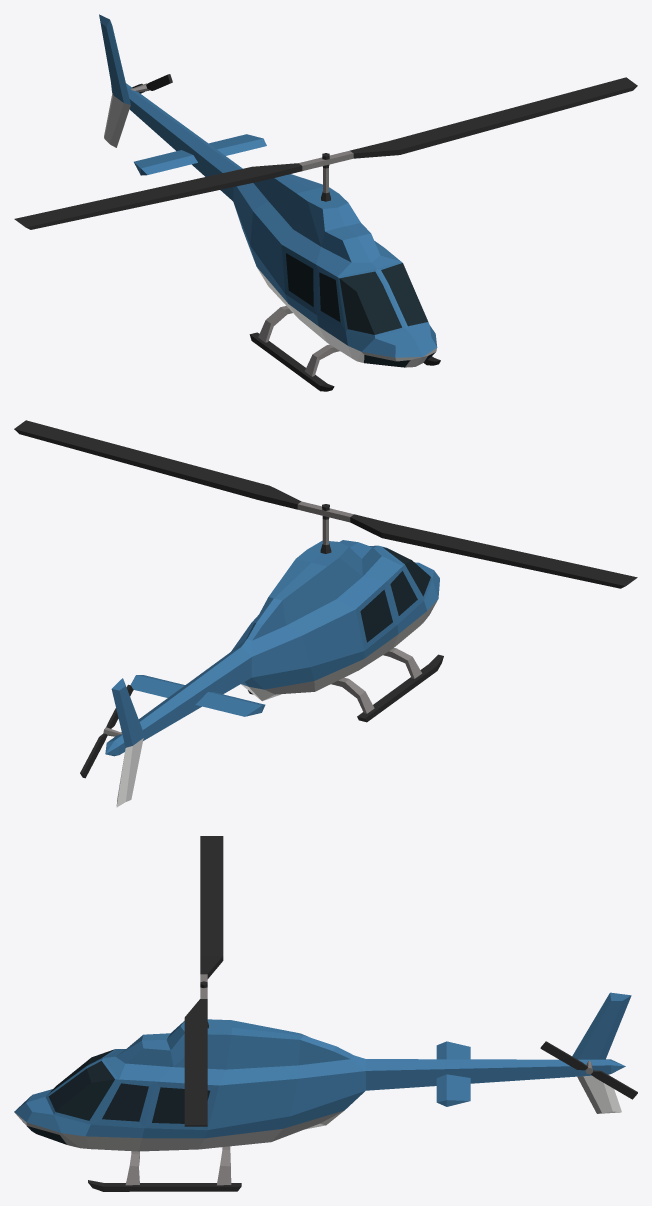
Rendered from helicopter.glb.
3 renders of one model, top to bottom at view 1: azimuth 30°, elevation 25°; view 2: azimuth 150°, elevation 25°; view 3: azimuth 270°, elevation 25°, orthographic. The views are drawn at different scales.
Visible parts, largest first — view 1: helicopter-base, helicopter-propeller-main; view 2: helicopter-base, helicopter-propeller-main, helicopter-propeller-small; view 3: helicopter-base, helicopter-propeller-main, helicopter-propeller-small.
Boxes of the visible parts, x1,y1,x2,y2 form: helicopter-base: [99, 14, 440, 391]; helicopter-propeller-main: [14, 77, 637, 229]; helicopter-base: [105, 540, 443, 807]; helicopter-propeller-main: [14, 420, 637, 588]; helicopter-propeller-small: [80, 684, 133, 778]; helicopter-base: [14, 992, 631, 1191]; helicopter-propeller-main: [184, 836, 223, 1126]; helicopter-propeller-small: [540, 1041, 637, 1099].
Bounding box in the file's own units: 10.16 × 3.01 × 9.26.
1 material, 1 textured.
